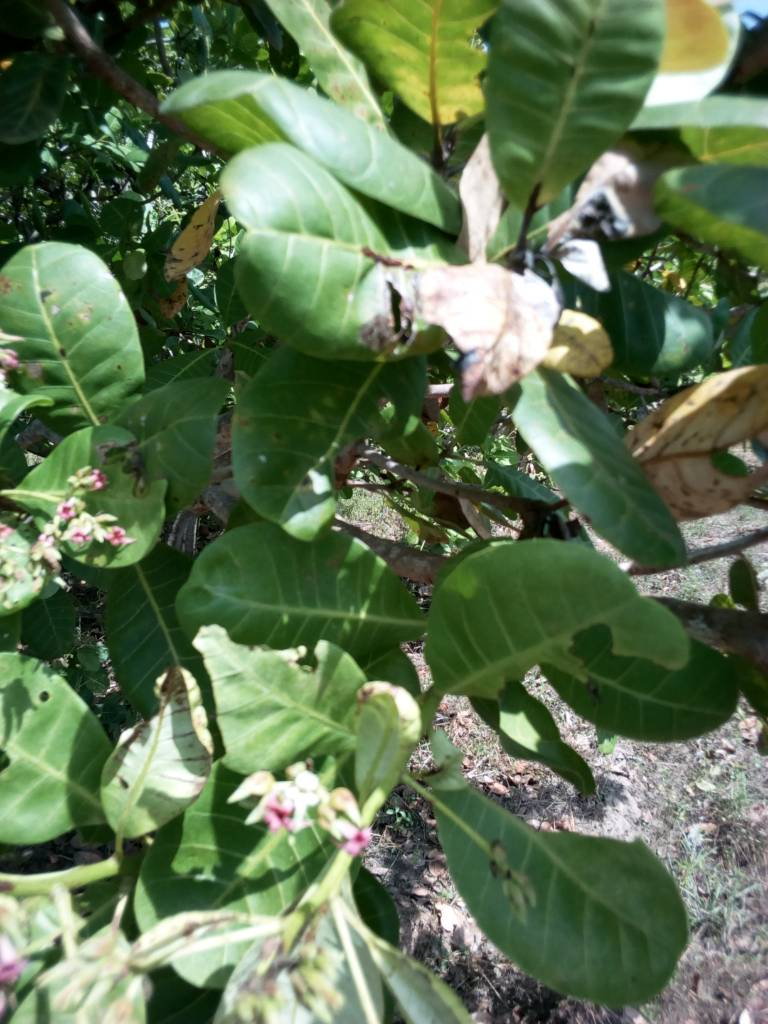Die-black: (347, 243, 576, 414), (519, 132, 679, 271), (331, 516, 468, 605)
